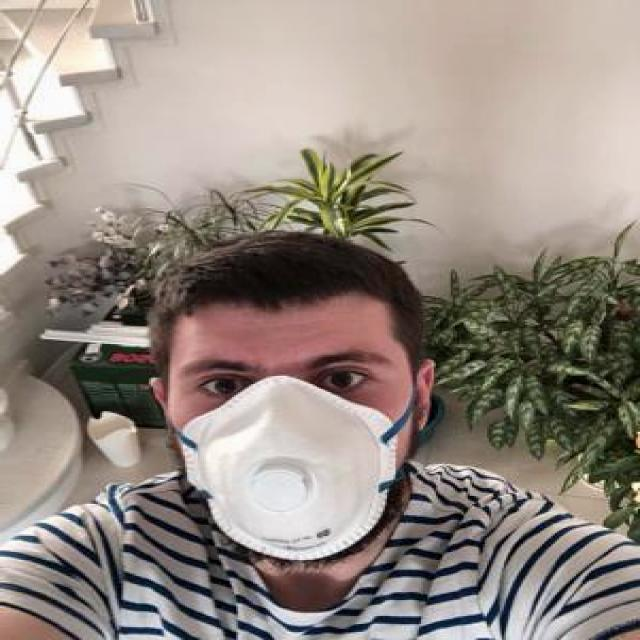face_mask: (172, 324, 406, 566)
head_nohelmet: (159, 216, 438, 333)
person: (0, 211, 634, 640)
